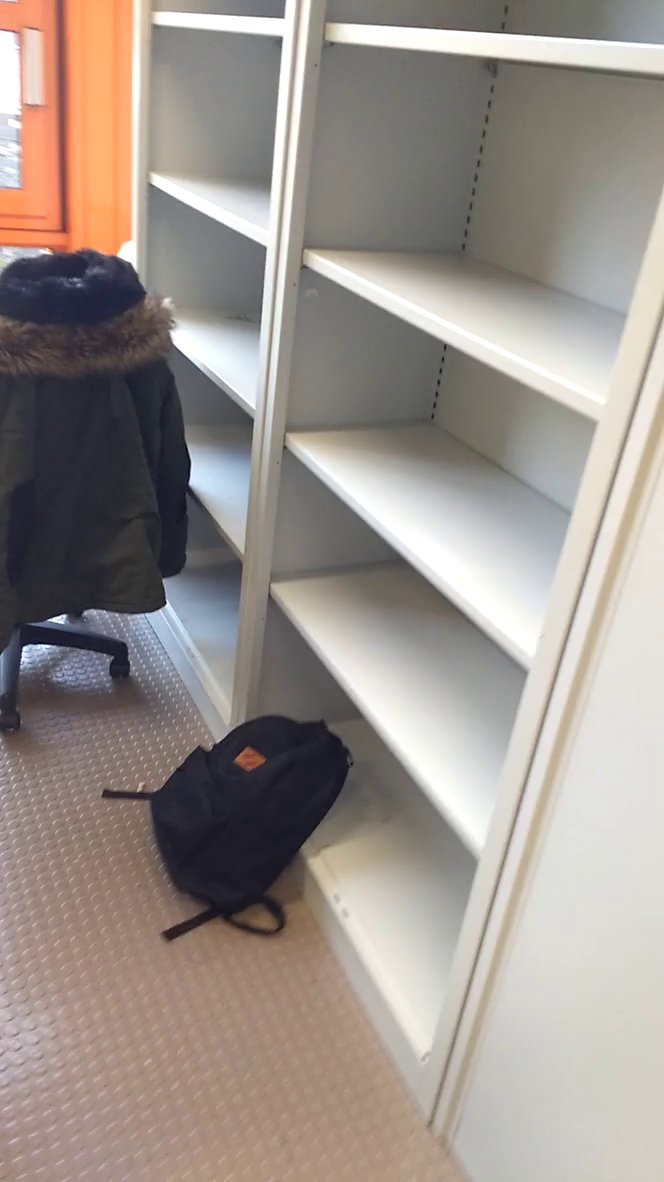bag: (102, 697, 360, 951)
